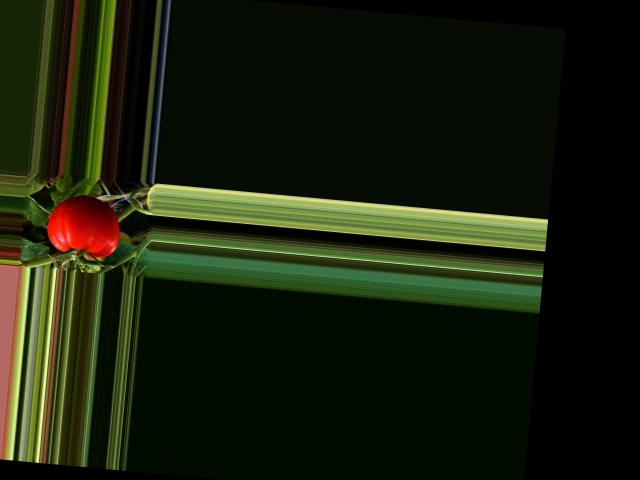tomato: (45, 192, 123, 258)
